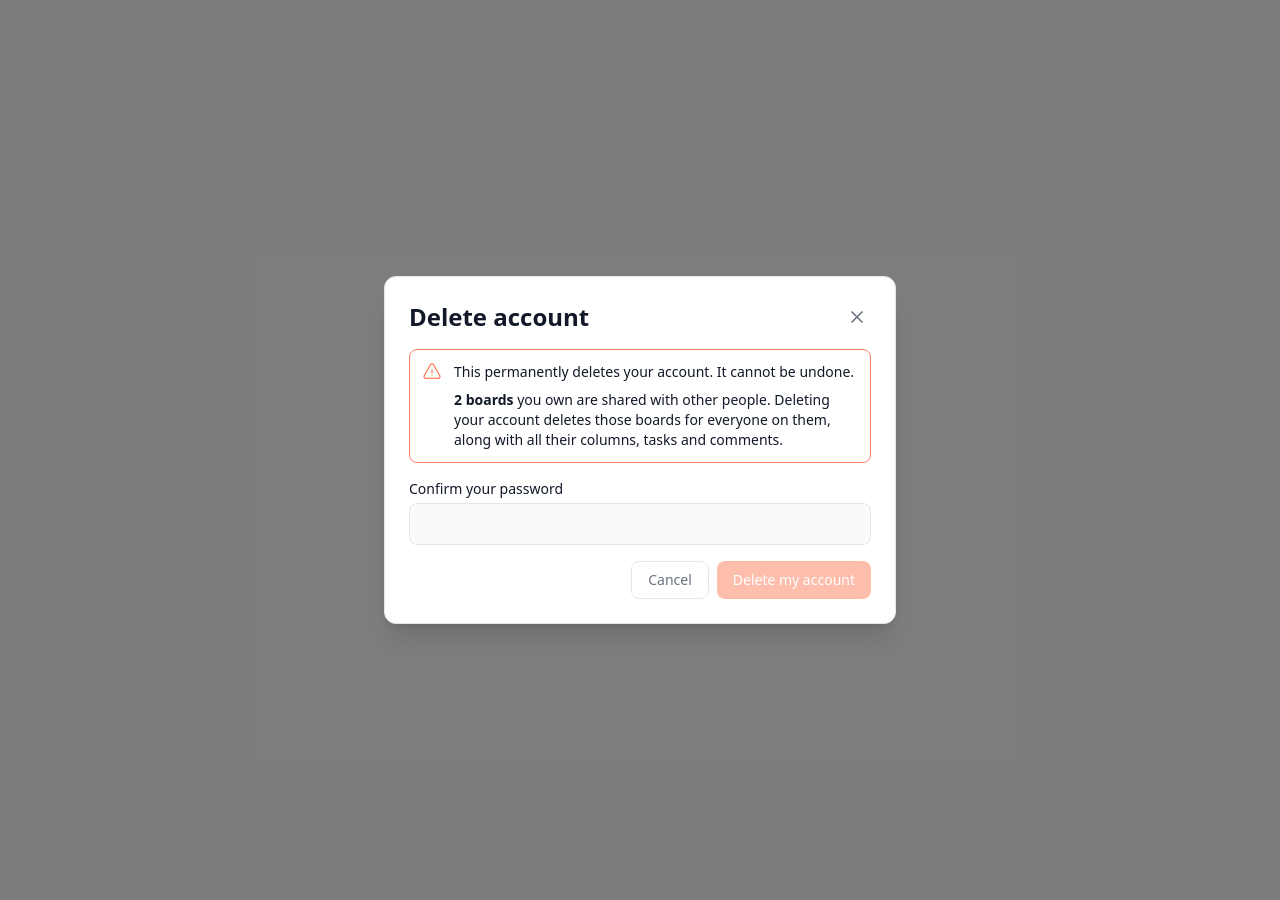
Test: DeleteAccountModal › keeps the confirm button disabled until the field is filled
expect the button "Delete my account" is disabled: met, box [717, 561, 871, 599]
Type "CorrectHorse1!" into the password field labelled "Confirm your password" at (640, 524), box [409, 503, 871, 545]
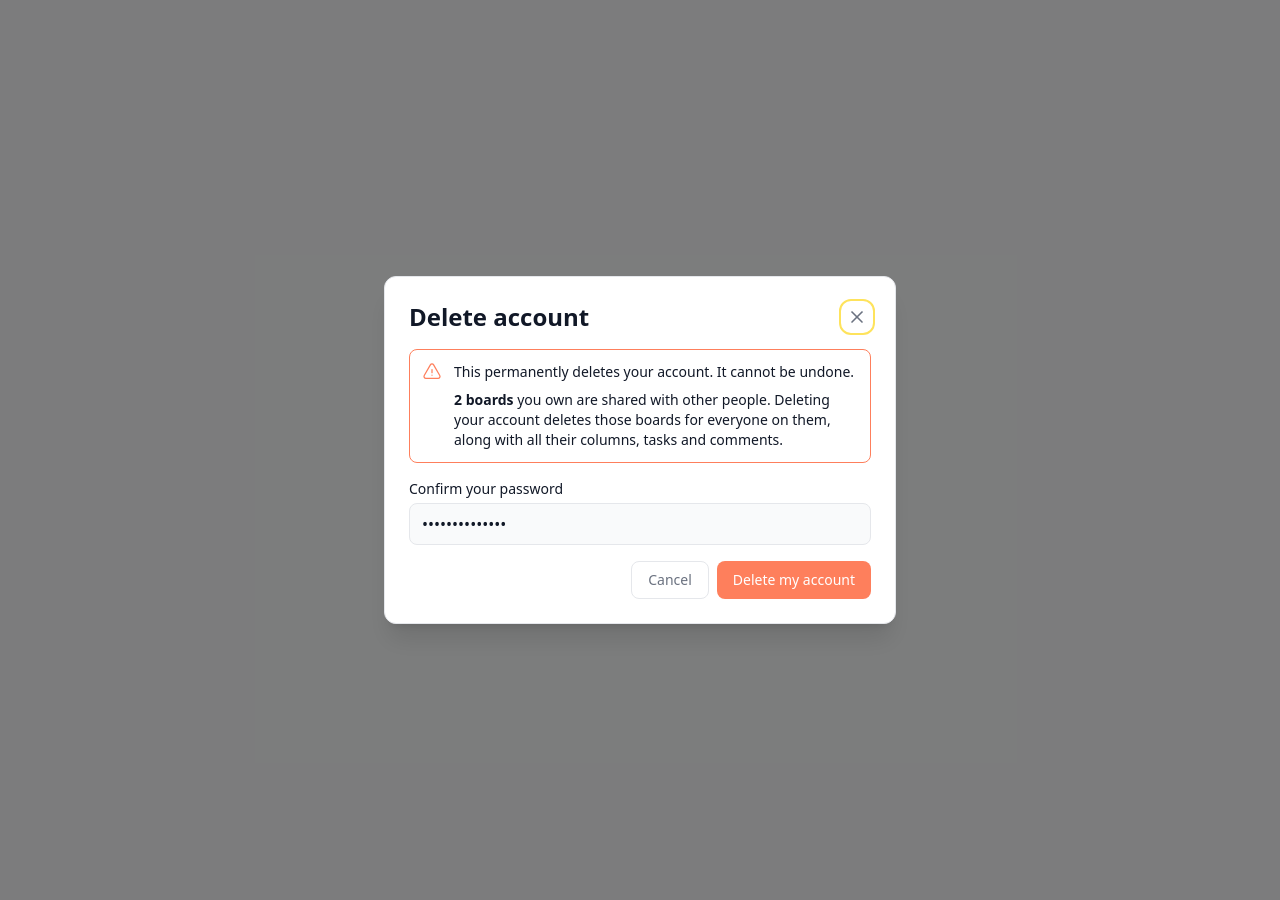
expect the button "Delete my account" is enabled: met, box [717, 561, 871, 599]
